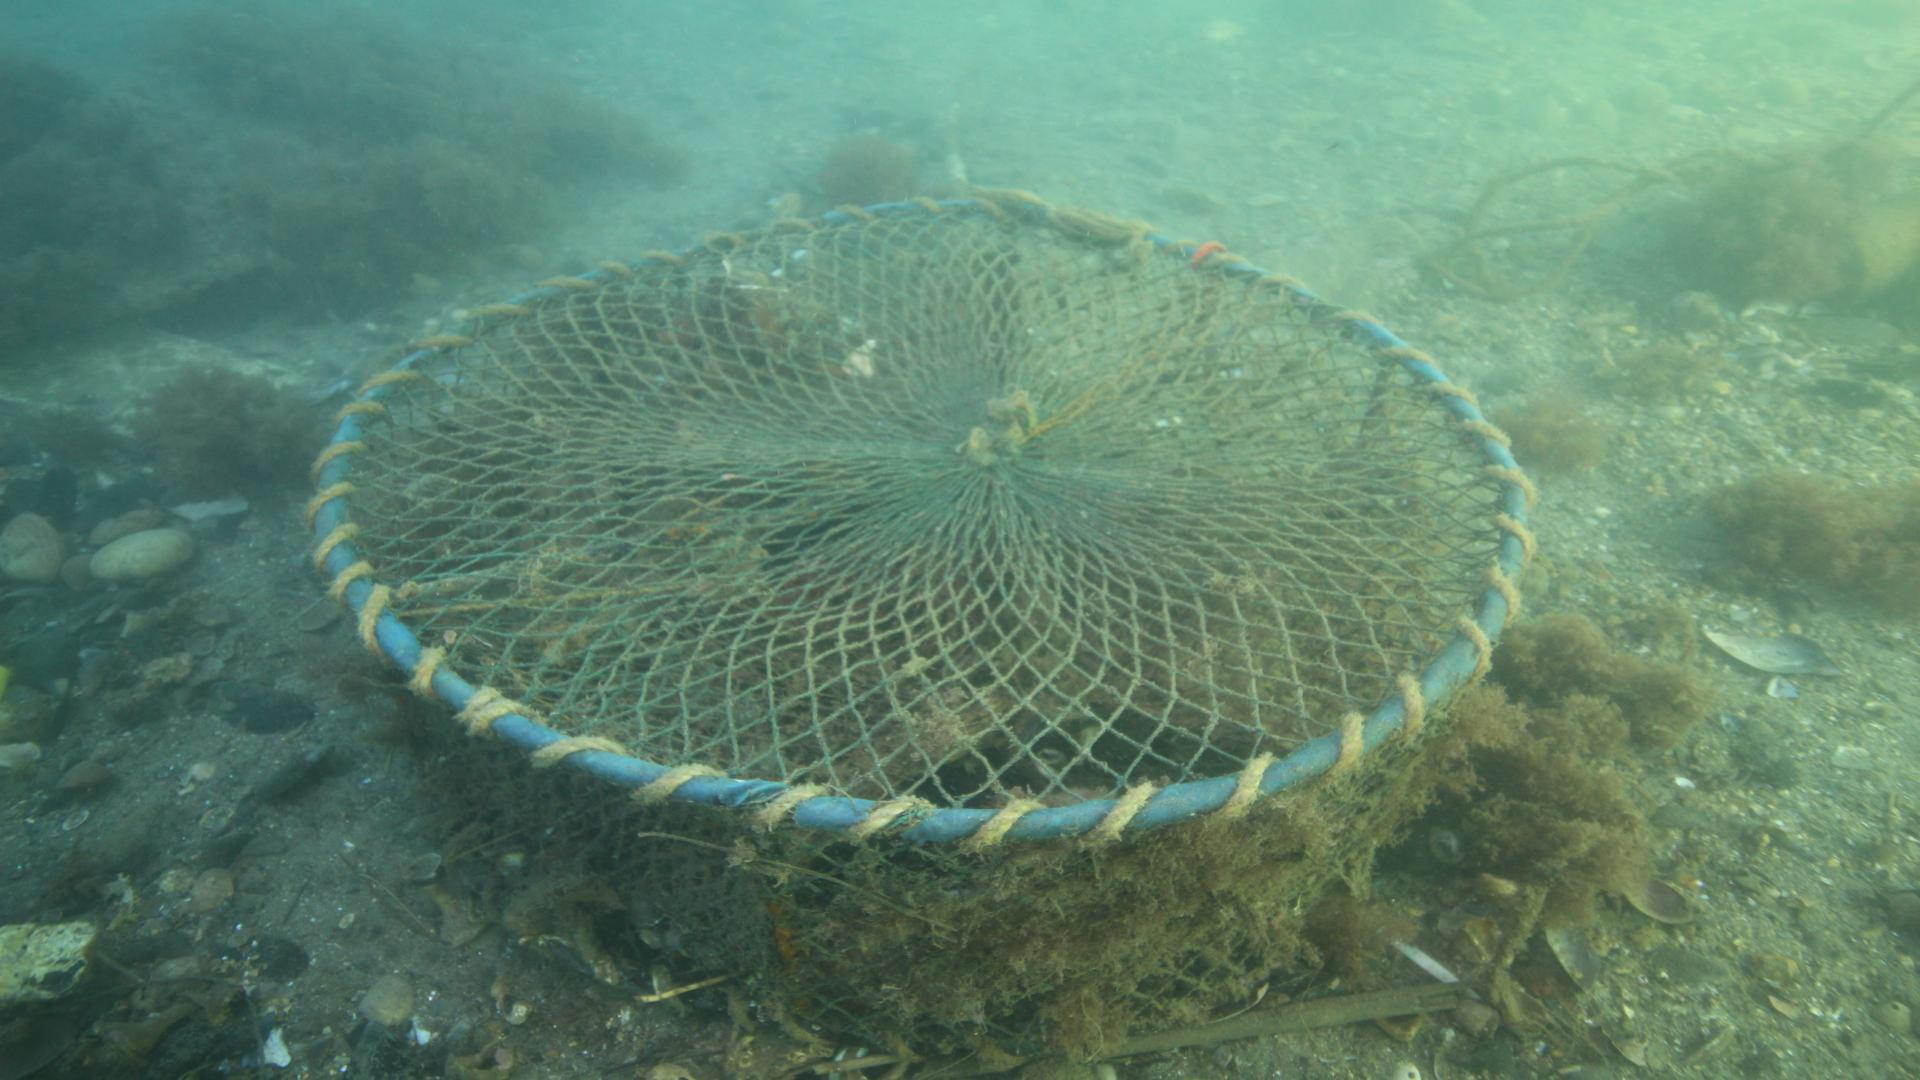circular fish trap: (305, 194, 1532, 1056)
